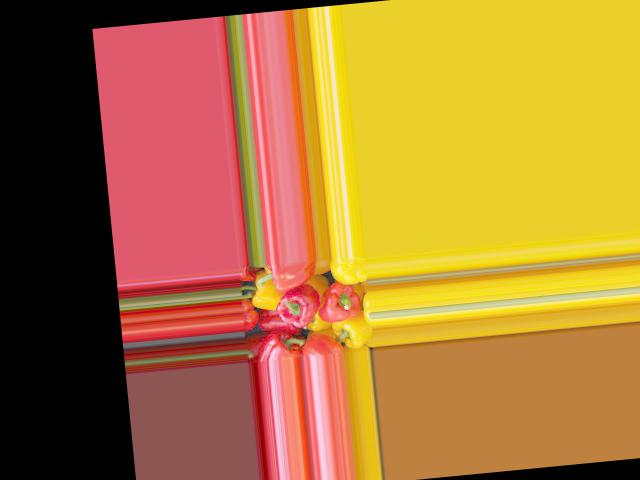bell_pepper: (335, 312, 373, 347)
